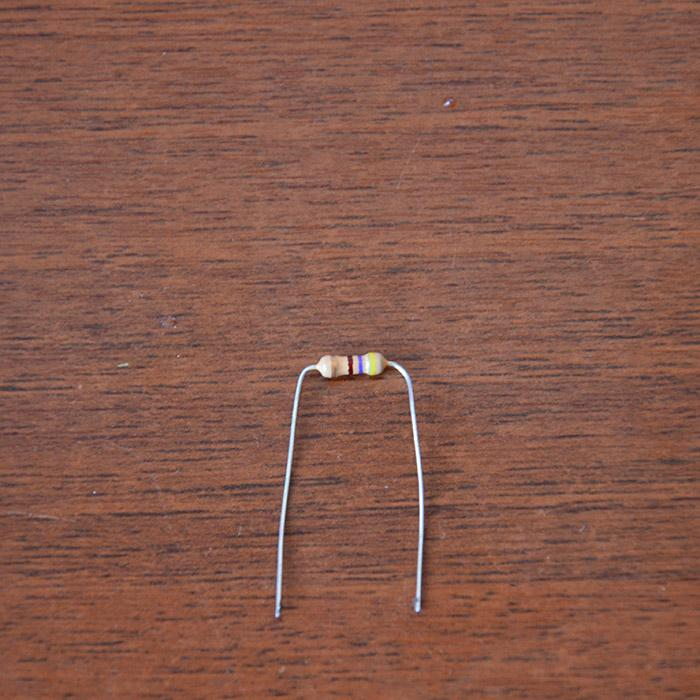resistor: (321, 314, 347, 386)
